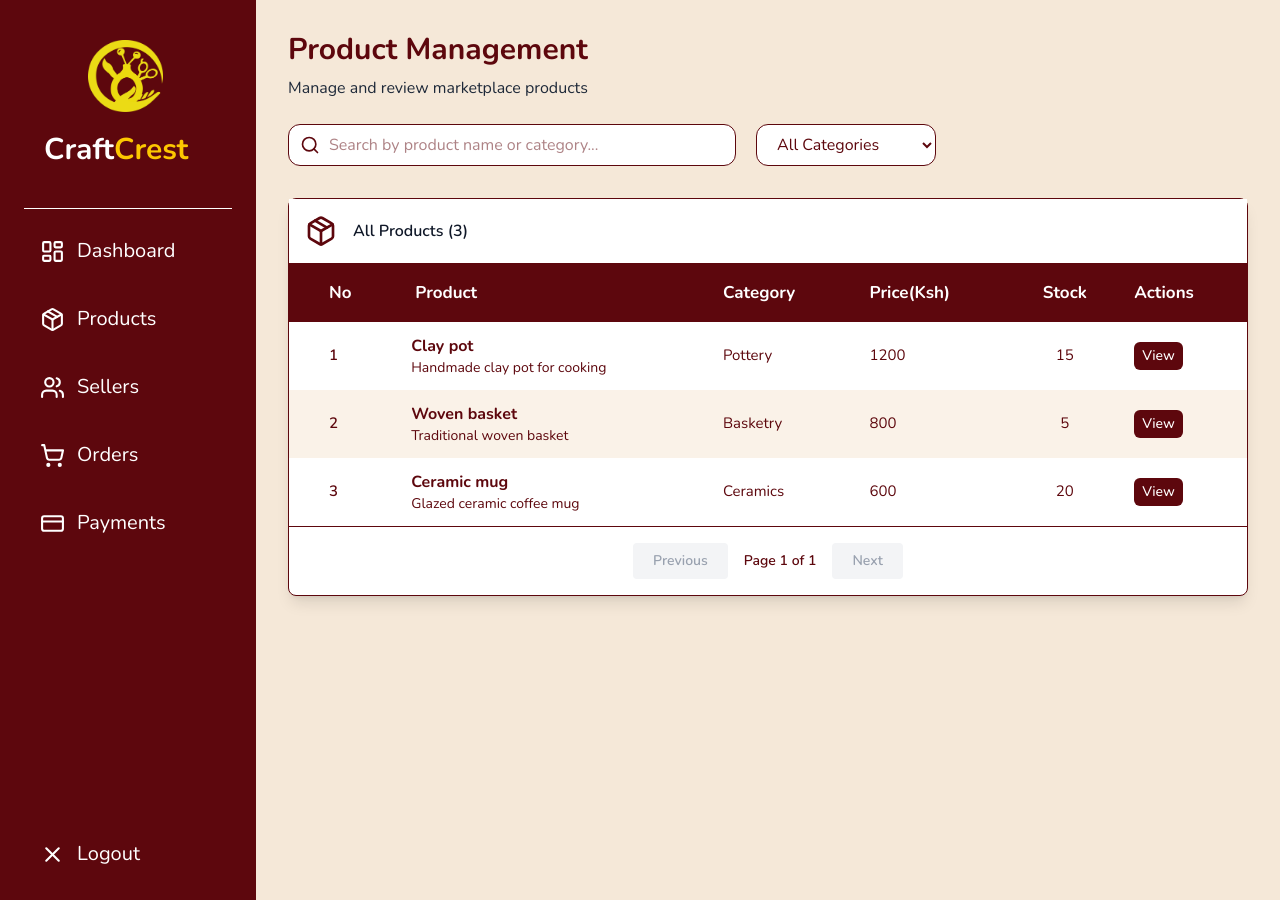
it: ProductManagement › filters products by category
Select "Ceramics" in the dropdown: (846, 145) left=756, top=124, right=936, bottom=166
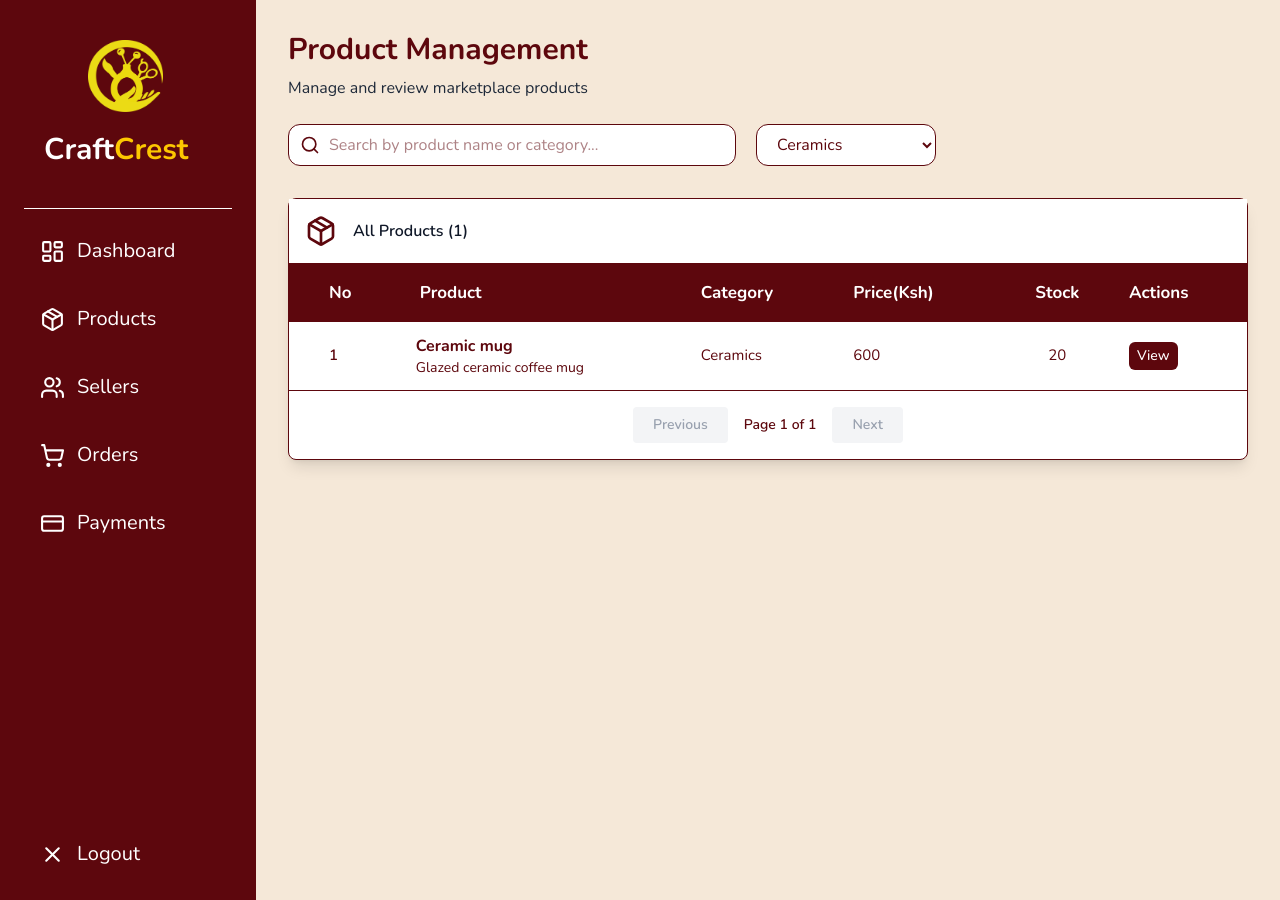
Expected: the text "Ceramic mug" is shown, left=416, top=334, right=513, bottom=356
Expected: the heading "All Products (1)" is shown, left=353, top=219, right=468, bottom=243
Expected: the text "Clay pot" is gone
